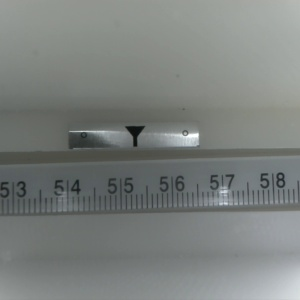3: (15, 181, 26, 197)
4: (70, 179, 81, 194)
5: (158, 176, 168, 192), (259, 173, 269, 189), (123, 177, 133, 193), (54, 180, 64, 195), (107, 178, 116, 194), (0, 182, 9, 198), (209, 175, 218, 190)
6: (174, 175, 184, 191)
7: (225, 174, 234, 189)
8: (275, 172, 284, 188)
finger: (123, 126, 145, 149)
